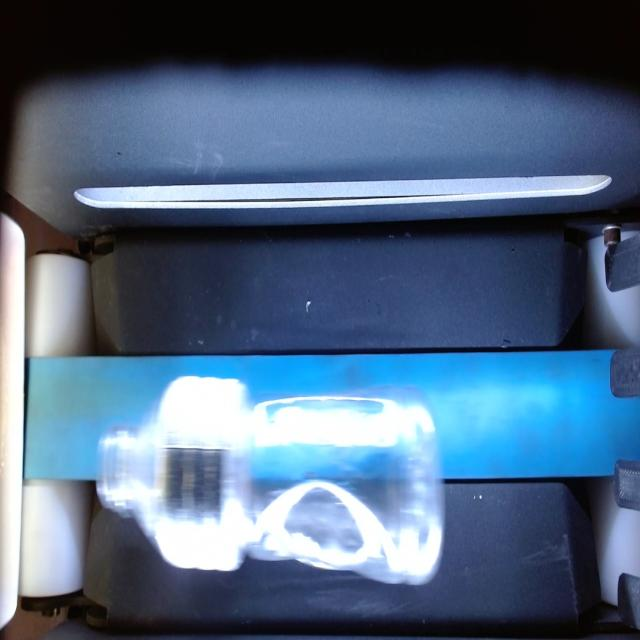bottom: (258, 384, 445, 589)
label: (157, 368, 255, 574)
neck: (93, 408, 159, 536)
